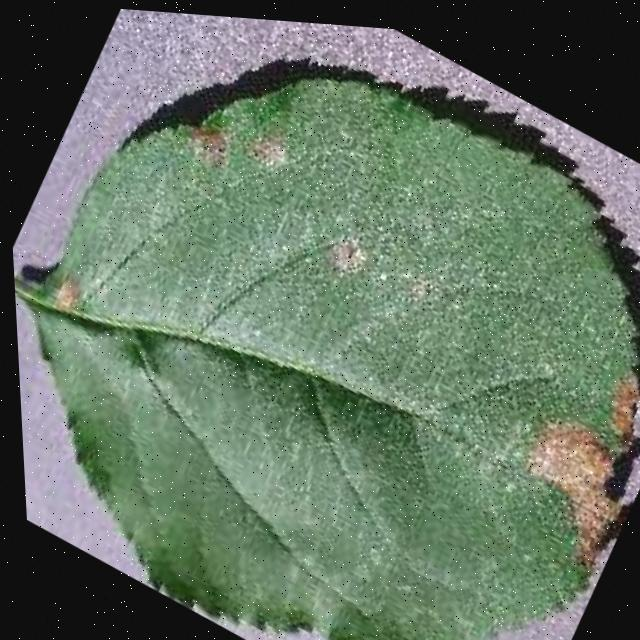black_rot: (460, 316, 640, 606), (156, 75, 322, 222), (36, 259, 107, 334)
